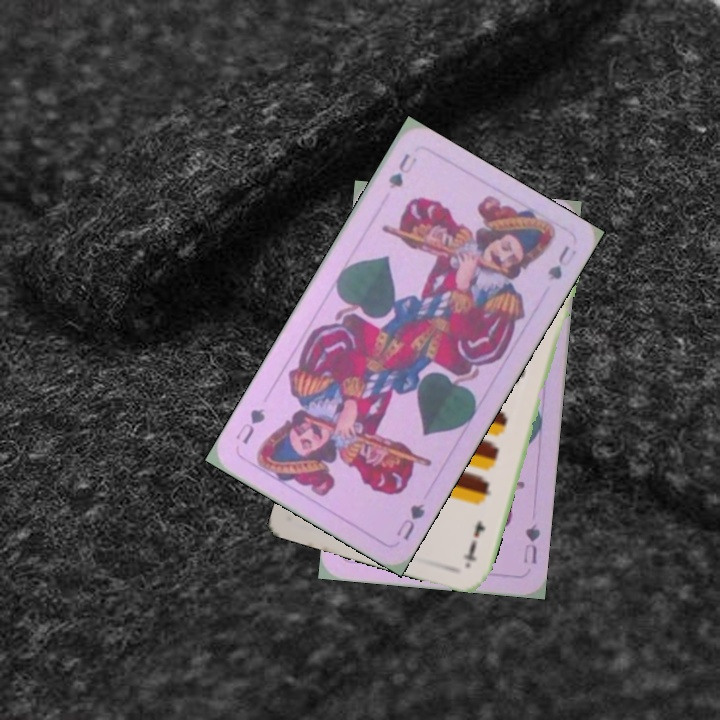E7: (459, 516, 488, 568)
GU: (392, 499, 428, 543), (384, 149, 420, 192), (519, 520, 543, 566)
